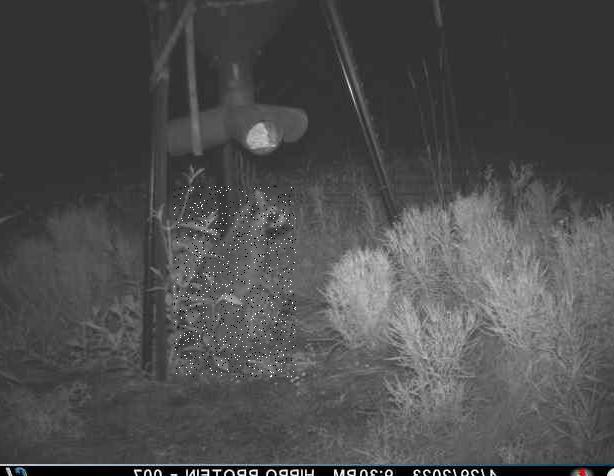Raccoon: (173, 186, 295, 377)
